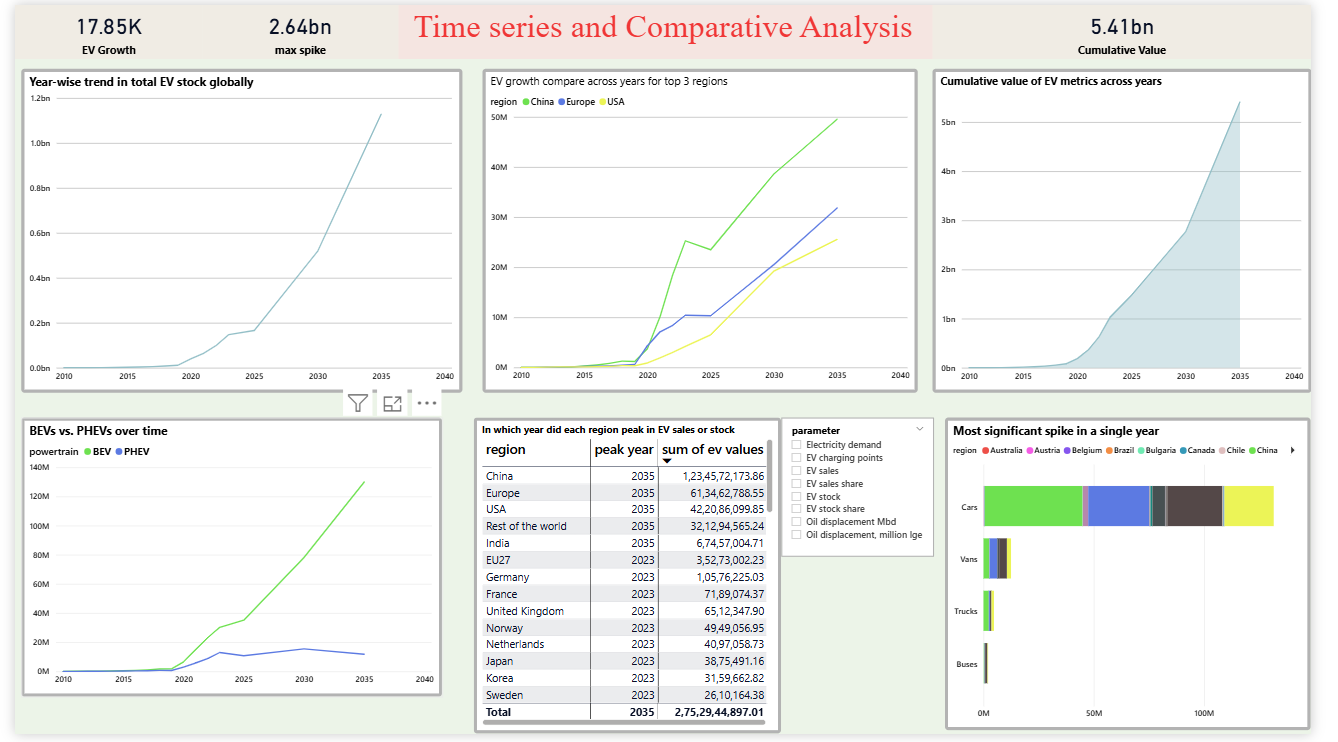

This screenshot's page, from the dashboard's own definition file:
{"tool":"powerbi","page":{"name":"Page 4","canvas":[1920,1080],"ordinal":3},"visuals":[{"type":"lineChart","title":"Year-wise trend in total EV stock globally","fields":{"Category":["EV_dataset.year"],"Y":["EV_dataset.sum of ev values"]},"box":[10,95,653.3,480],"z":0},{"type":"lineChart","title":"EV growth compare across years for top 3 regions","fields":{"Category":["EV_dataset.year"],"Y":["EV_dataset.sum of ev values"],"Series":["EV_dataset.region"]},"box":[691.7,95,645,480],"z":1000},{"type":"areaChart","title":"Cumulative value of EV metrics across years","fields":{"Category":["EV_dataset.year"],"Y":["EV_dataset.Cumulative Value"]},"box":[1358.3,95,561.7,480],"z":2000},{"type":"lineChart","title":"BEVs vs. PHEVs over time","fields":{"Category":["EV_dataset.year"],"Y":["EV_dataset.sum of ev values"],"Series":["EV_dataset.powertrain"]},"box":[10,611.7,623.3,413.3],"z":3000},{"type":"tableEx","title":"In which year did each region peak in EV sales or stock","fields":{"Values":["EV_dataset.region","EV_dataset.peak year","EV_dataset.sum of ev values"]},"box":[680,611.7,455,468.3],"z":4000},{"type":"slicer","fields":{"Values":["EV_dataset.parameter"]},"box":[1135,611.7,226.7,206.7],"z":5000},{"type":"barChart","title":"Most significant spike in a single year","fields":{"Y":["EV_dataset.max spike"],"Category":["EV_dataset.mode"],"Series":["EV_dataset.region"]},"box":[1378.3,611.7,541.7,463.3],"z":6000},{"type":"textbox","box":[0,0,1920,80],"z":7000},{"type":"card","fields":{"Values":["EV_dataset.EV Growth"]},"box":[0,0,278.3,80],"z":8000},{"type":"card","fields":{"Values":["EV_dataset.max spike"]},"box":[278.3,0,290,80],"z":9000},{"type":"card","fields":{"Values":["EV_dataset.Cumulative Value"]},"box":[1358.3,0,561.7,80],"z":10000}]}

Visuals, with their boxes in screenshot pixels (x1, y1, x2, y2), scaled from the page's 1920x1080 canvas onto the 1338x742 screenshot:
"Year-wise trend in total EV stock globally" lineChart: (7, 65, 462, 395)
"EV growth compare across years for top 3 regions" lineChart: (482, 65, 932, 395)
"Cumulative value of EV metrics across years" areaChart: (947, 65, 1337, 395)
"BEVs vs. PHEVs over time" lineChart: (7, 420, 441, 704)
"In which year did each region peak in EV sales or stock" tableEx: (474, 420, 791, 741)
slicer - EV_dataset.parameter: (791, 420, 949, 562)
"Most significant spike in a single year" barChart: (961, 420, 1337, 739)
textbox: (0, 0, 1337, 55)
card - EV_dataset.EV Growth: (0, 0, 194, 55)
card - EV_dataset.max spike: (194, 0, 396, 55)
card - EV_dataset.Cumulative Value: (947, 0, 1337, 55)
